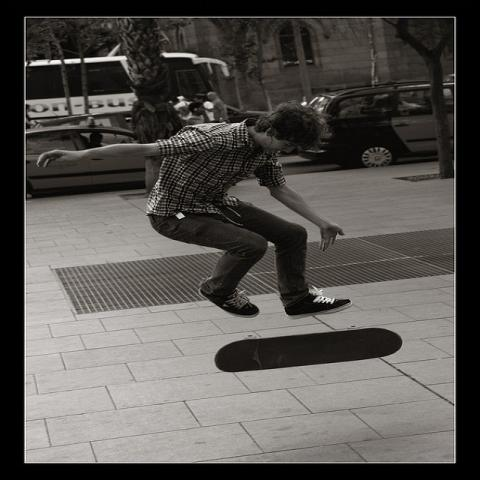bus: (28, 56, 230, 131)
car: (301, 85, 455, 169), (23, 124, 147, 196)
